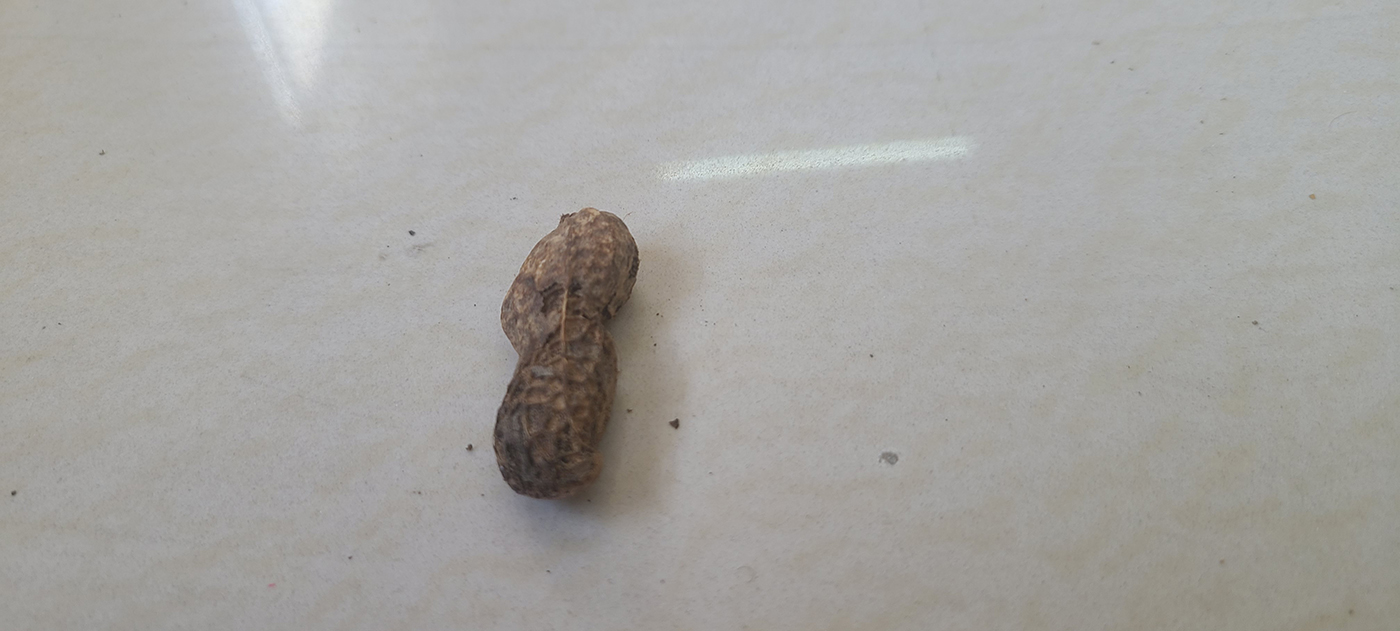l: (494, 204, 643, 498)
